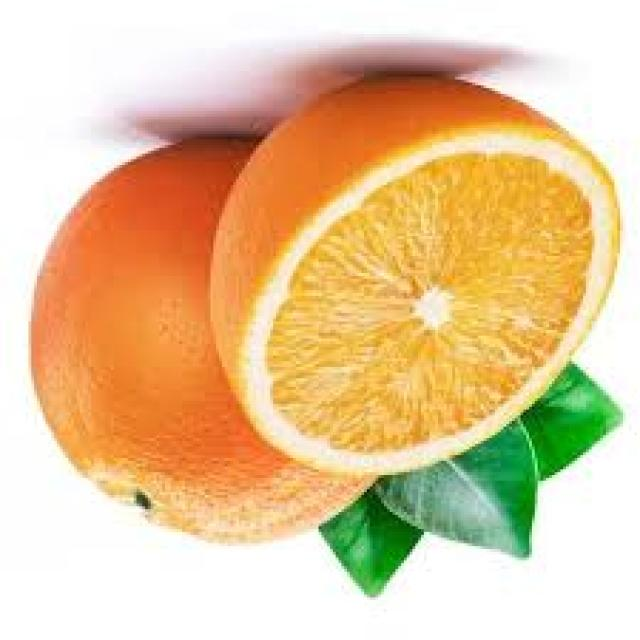orange: (24, 139, 382, 535)
